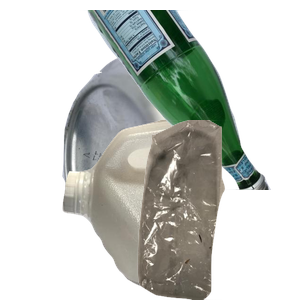glass: (75, 10, 300, 190)
metal: (60, 44, 300, 224)
plastic: (60, 120, 300, 300)
trash: (114, 120, 300, 300)
